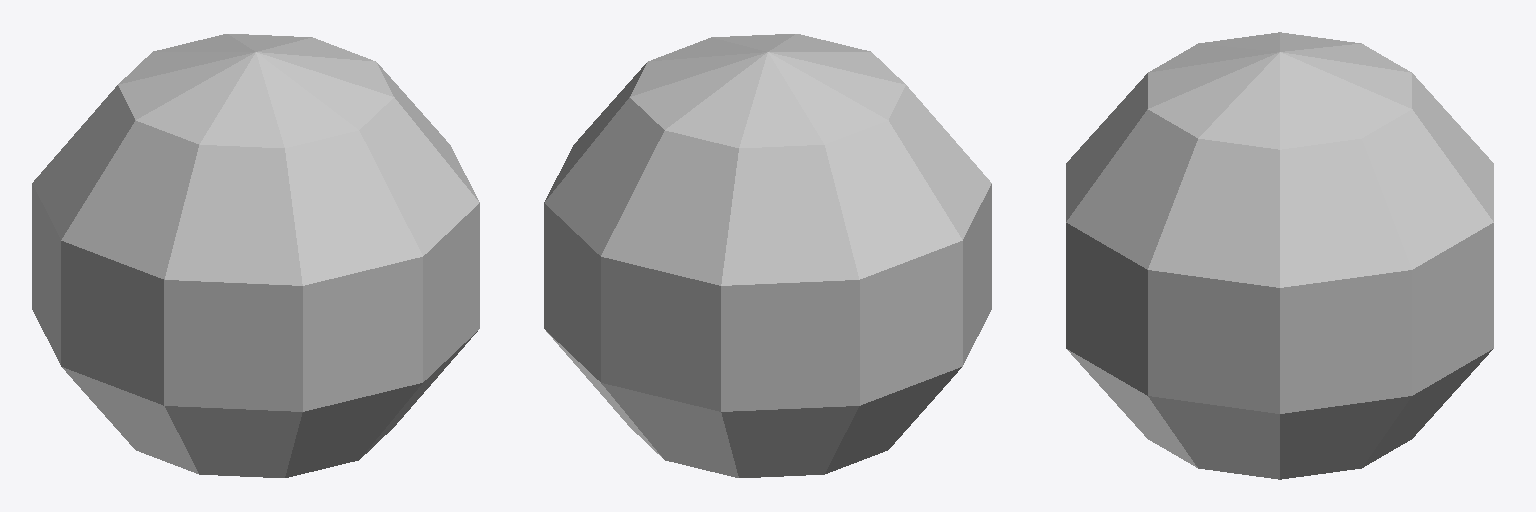
The model's file is magelight.obj.
3 renders of one model, left to right at view 1: azimuth 30°, elevation 25°; view 2: azimuth 150°, elevation 25°; view 3: azimuth 270°, elevation 25°, orthographic.
Visible parts, largest first — view 1: sphere; view 2: sphere; view 3: sphere.
Boxes of the visible parts, <box> form: sphere: <box>32,34,479,477</box>; sphere: <box>544,34,991,477</box>; sphere: <box>1066,32,1493,479</box>.
Bounding box in the file's own units: 1 × 1 × 0.9511.